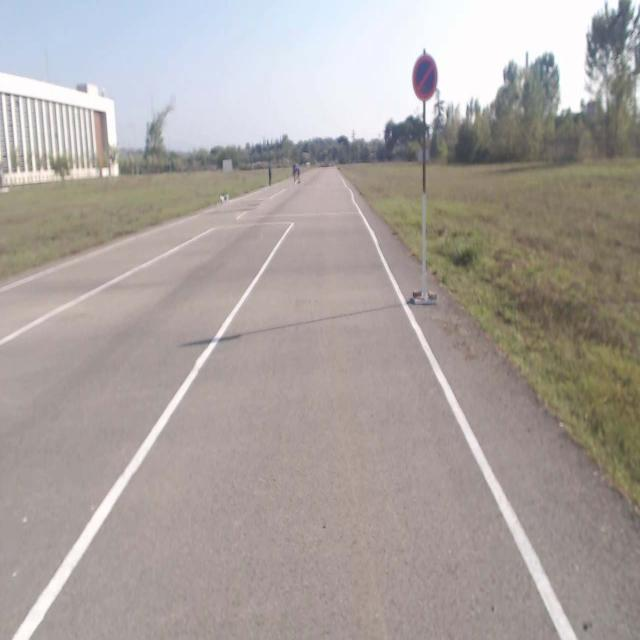parkyasak: (412, 56, 438, 100)
